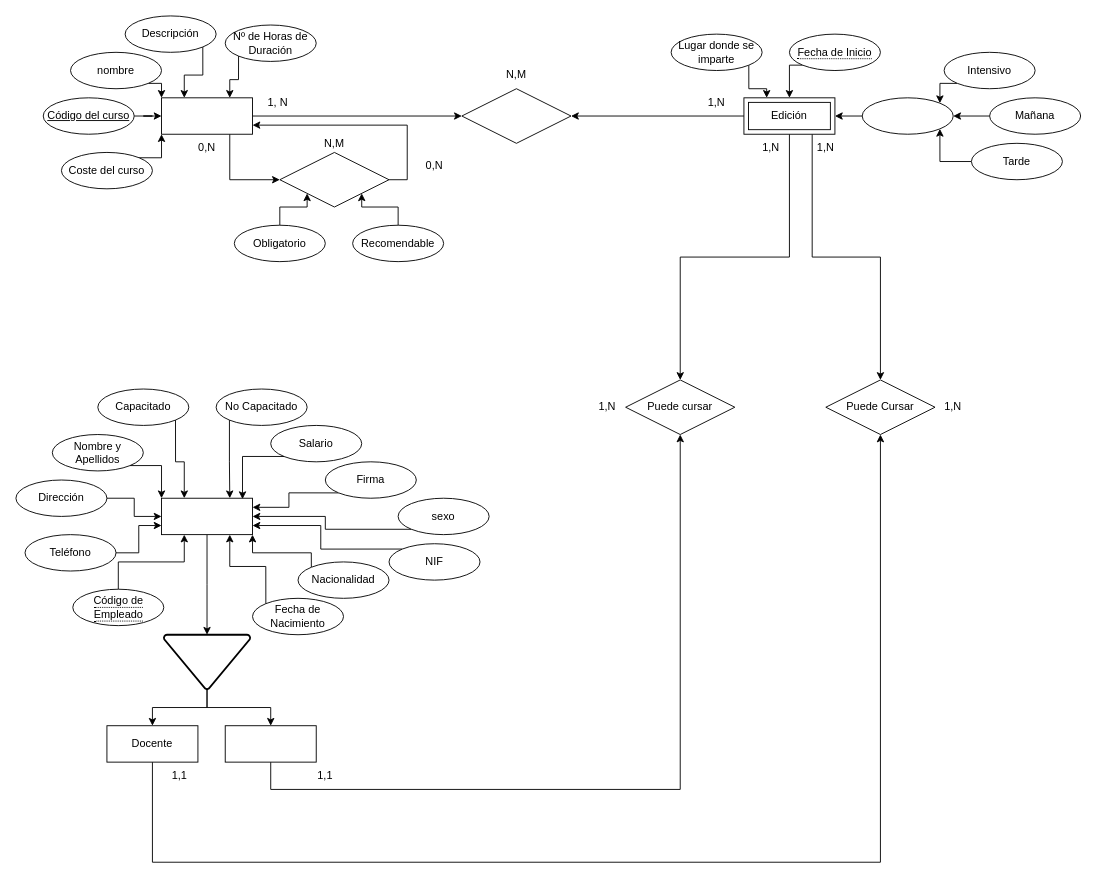
The diagram is 1097 pixels wide and 885 high, and some of its shapes have lost their labels. The shapes that lost their labels are listed below. From the top down, each one's centre as x and y in pixels, then its label:
At (207,115): "Cursos Internos de Formación".
At (516,115): "tiene".
At (907,115): "Horarios".
At (334,179): "Tiene prerrequisito".
At (207,516): "Empleado".
At (206,661): "ISA".
At (270,743): "Alumno".
